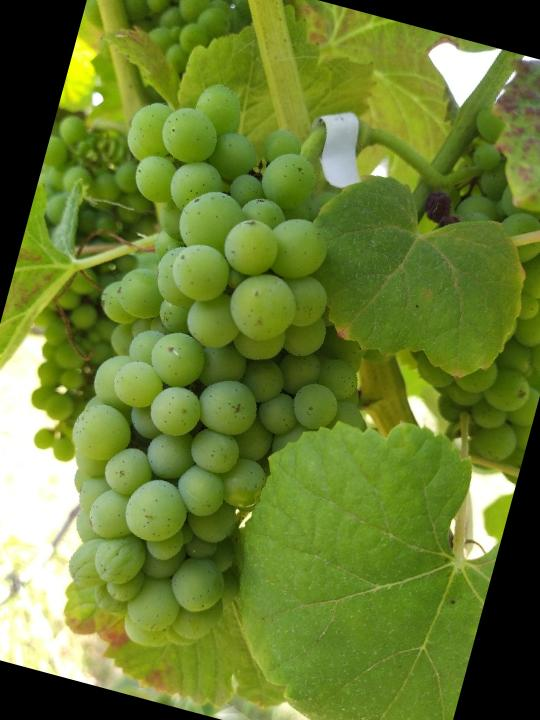grape: (0, 60, 450, 692)
